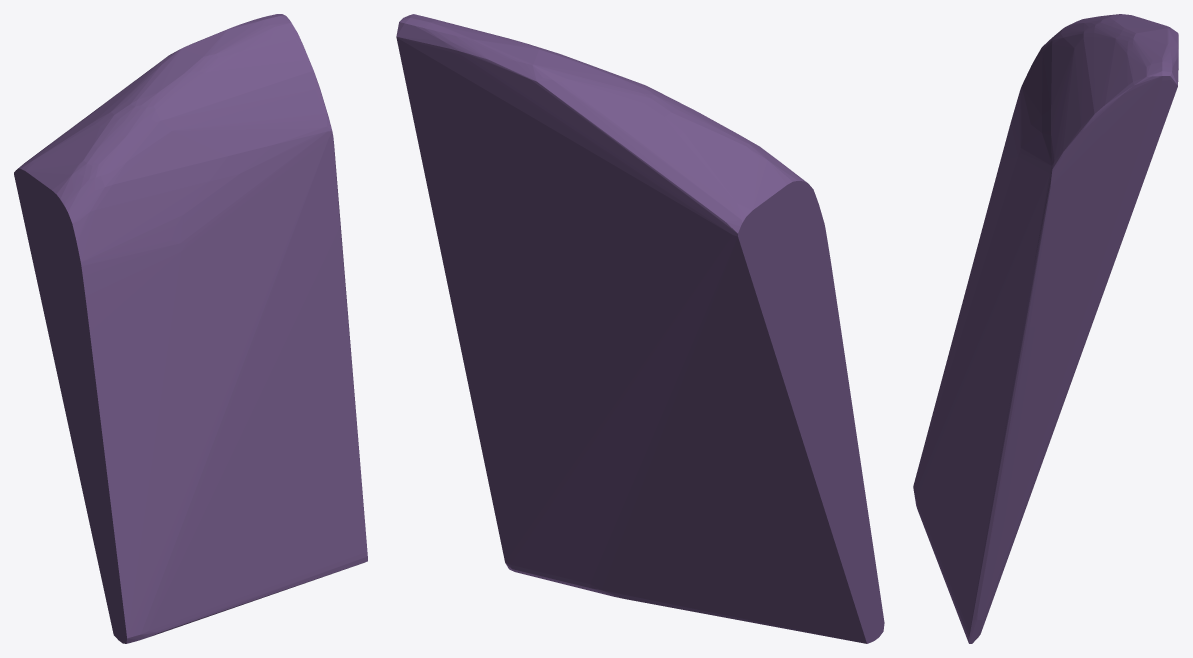
Rendered from right-shoulder-roll-0_part_1.obj.
The picture shows the model from 3 angles, left to right: view 1: azimuth 30°, elevation 25°; view 2: azimuth 150°, elevation 25°; view 3: azimuth 270°, elevation 25°; orthographic projection. The views are drawn at different scales.
Size of the model in its own units: 0.0213 by 0.0376 by 0.0157.
